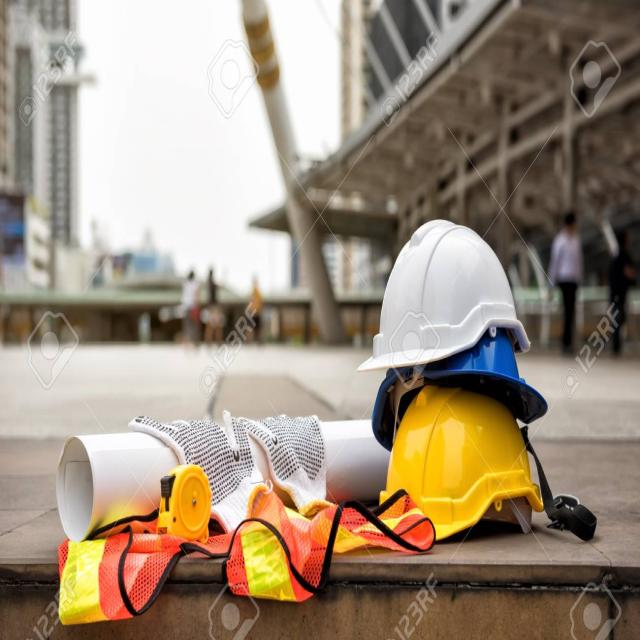helmet: (374, 369, 560, 544), (348, 203, 529, 370)
